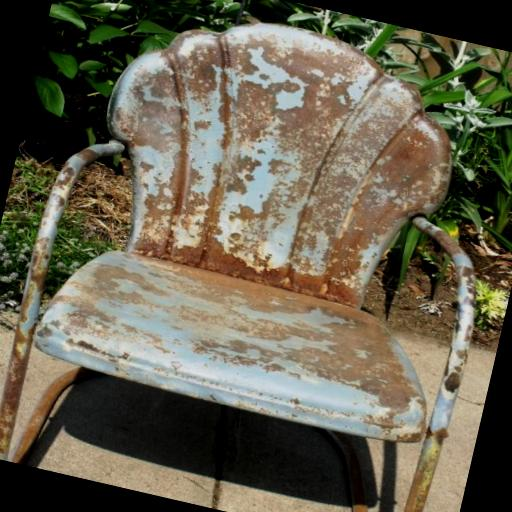segmentation: (34, 24, 474, 458)
